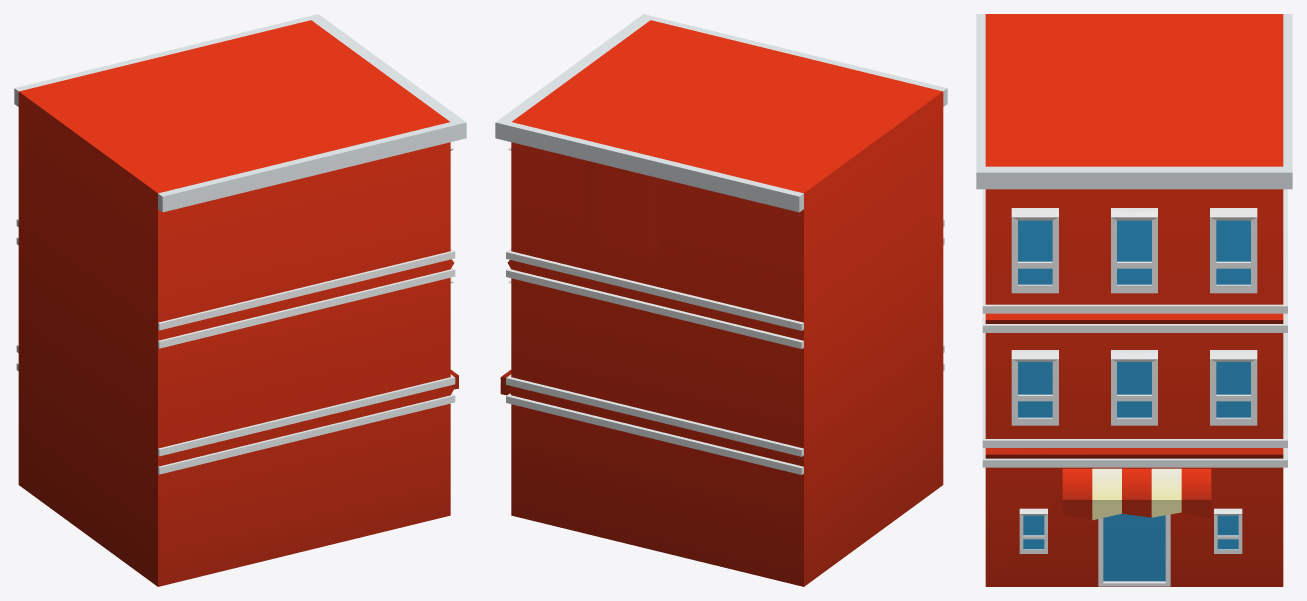
The model's file is PLAYER_RED_building.glb.
3 views of the same model, side by side, from view 1: azimuth 30°, elevation 25°; view 2: azimuth 150°, elevation 25°; view 3: azimuth 270°, elevation 25° (orthographic). The views are drawn at different scales.
Visible parts, largest first — view 1: Cube.002; view 2: Cube.002; view 3: Cube.002, Cube.003.
Part boxes in pixels (x1=…): Cube.002: x1=14, y1=14, x2=466, y2=586; Cube.002: x1=495, y1=14, x2=947, y2=586; Cube.002: x1=976, y1=14, x2=1292, y2=586; Cube.003: x1=1062, y1=468, x2=1211, y2=520.
Size of the model in its own units: 0.5588 by 0.6238 by 0.4257.
Materials: 2 (2 with a texture image).
